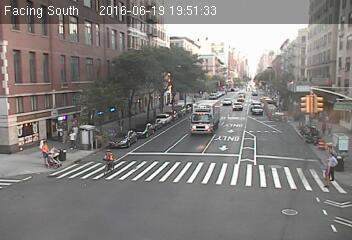pos: (318, 159, 340, 188)
